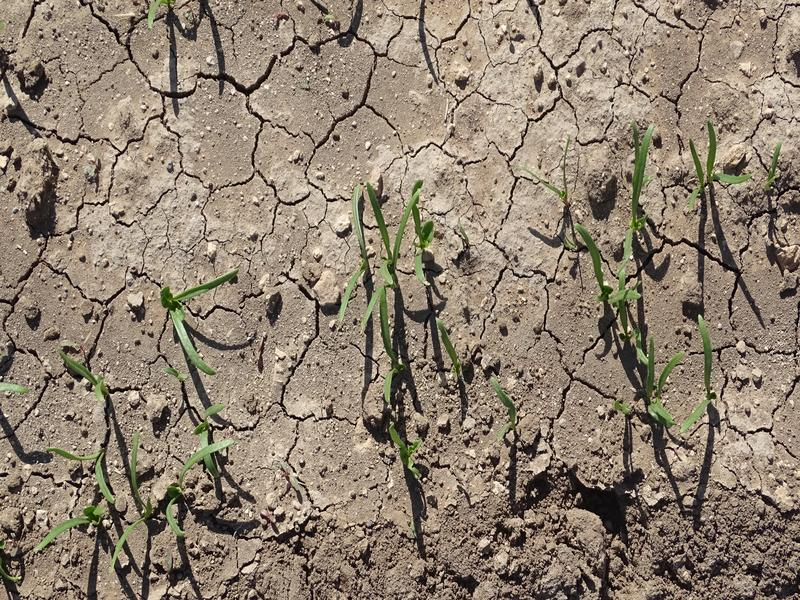Espinaca: (576, 227, 676, 422), (342, 180, 444, 337), (36, 431, 153, 566), (166, 402, 227, 541), (159, 270, 222, 375), (686, 127, 754, 218), (621, 125, 659, 247), (681, 313, 718, 432), (60, 350, 111, 405)
